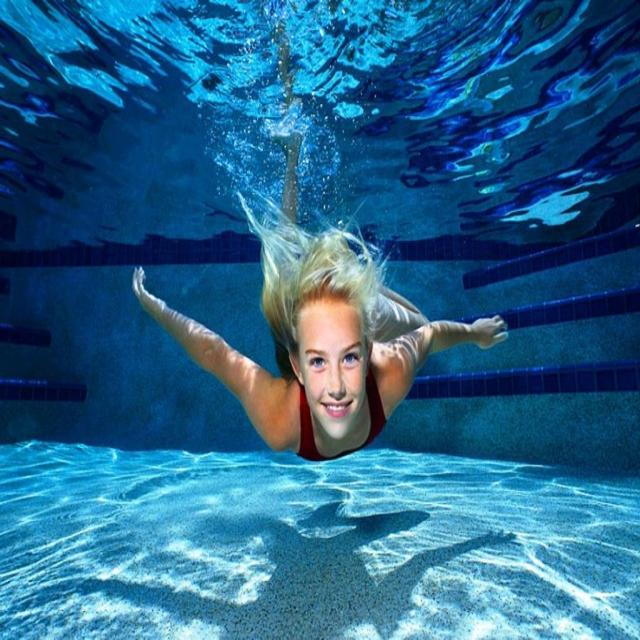Face: (289, 293, 372, 430)
